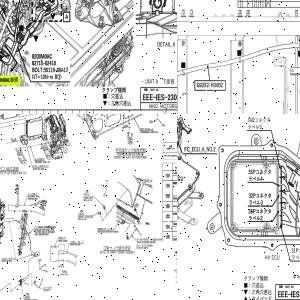PartNumber: (31, 59, 57, 67), (44, 66, 69, 74), (196, 82, 224, 88), (163, 154, 177, 158), (172, 171, 177, 175), (172, 237, 177, 241), (173, 204, 177, 208), (173, 212, 177, 216), (172, 181, 177, 184), (173, 222, 177, 225)
